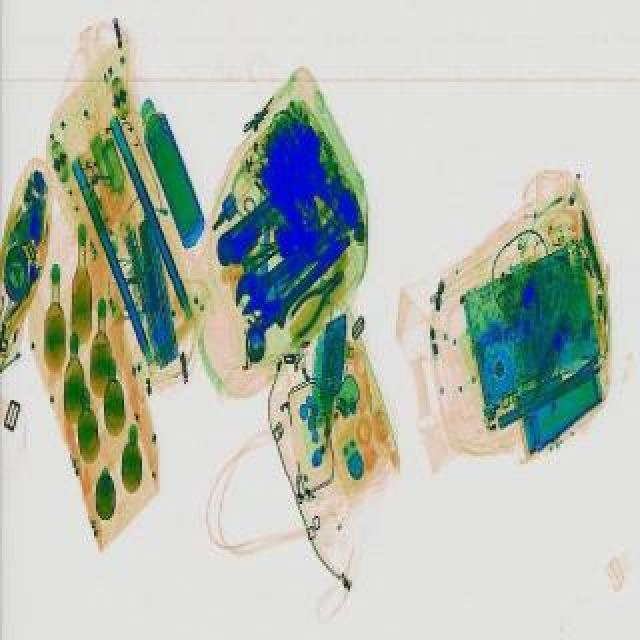scissors: (220, 208, 352, 320), (248, 226, 362, 338)
wrench: (278, 260, 352, 336)
